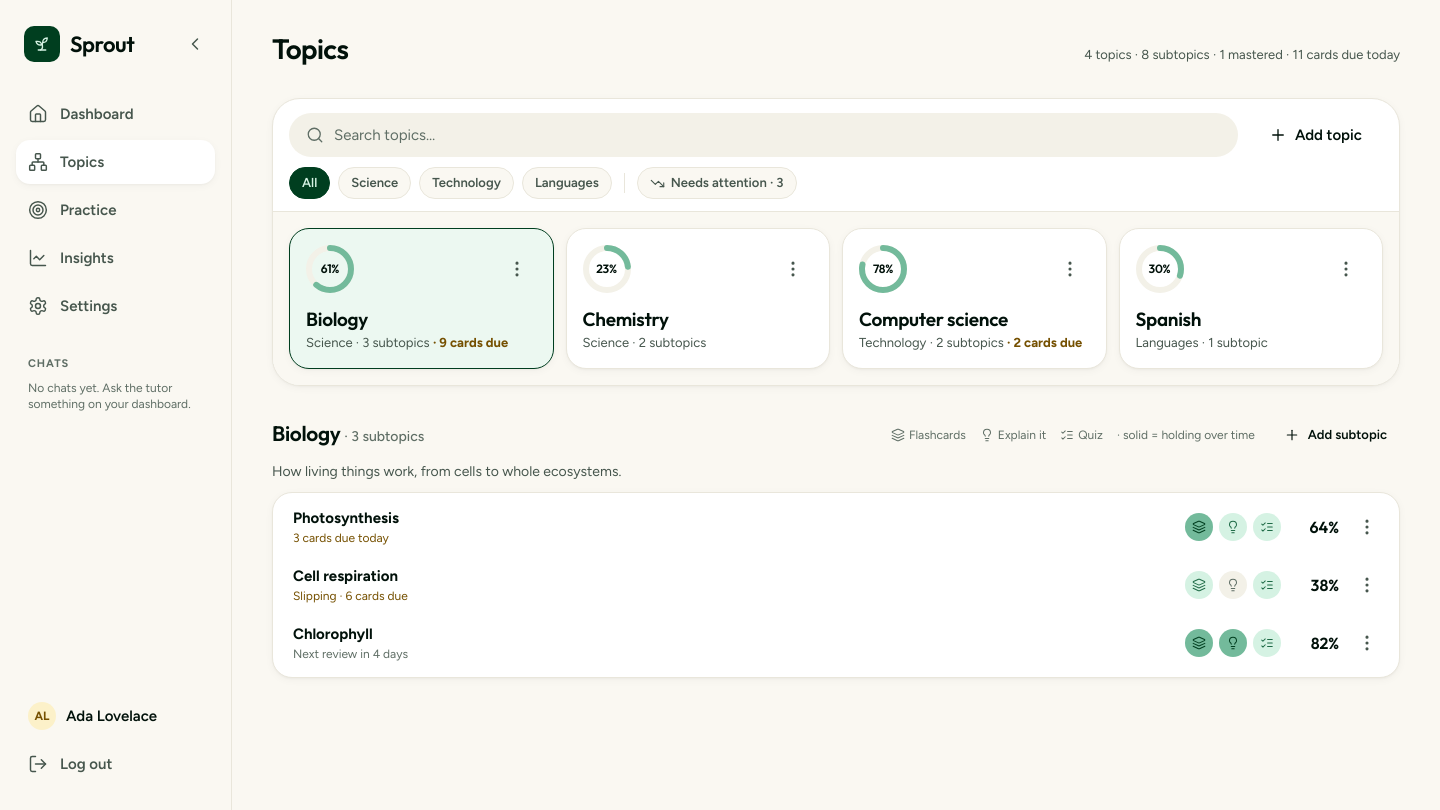
Test: TopicsView › shows the subtopics of the topic you pick
The width and height of the screenshot is (1440, 810).
Click the button with test id "topic-card" that starts with "Chemistry" at [606, 269], box [566,229,829,368]
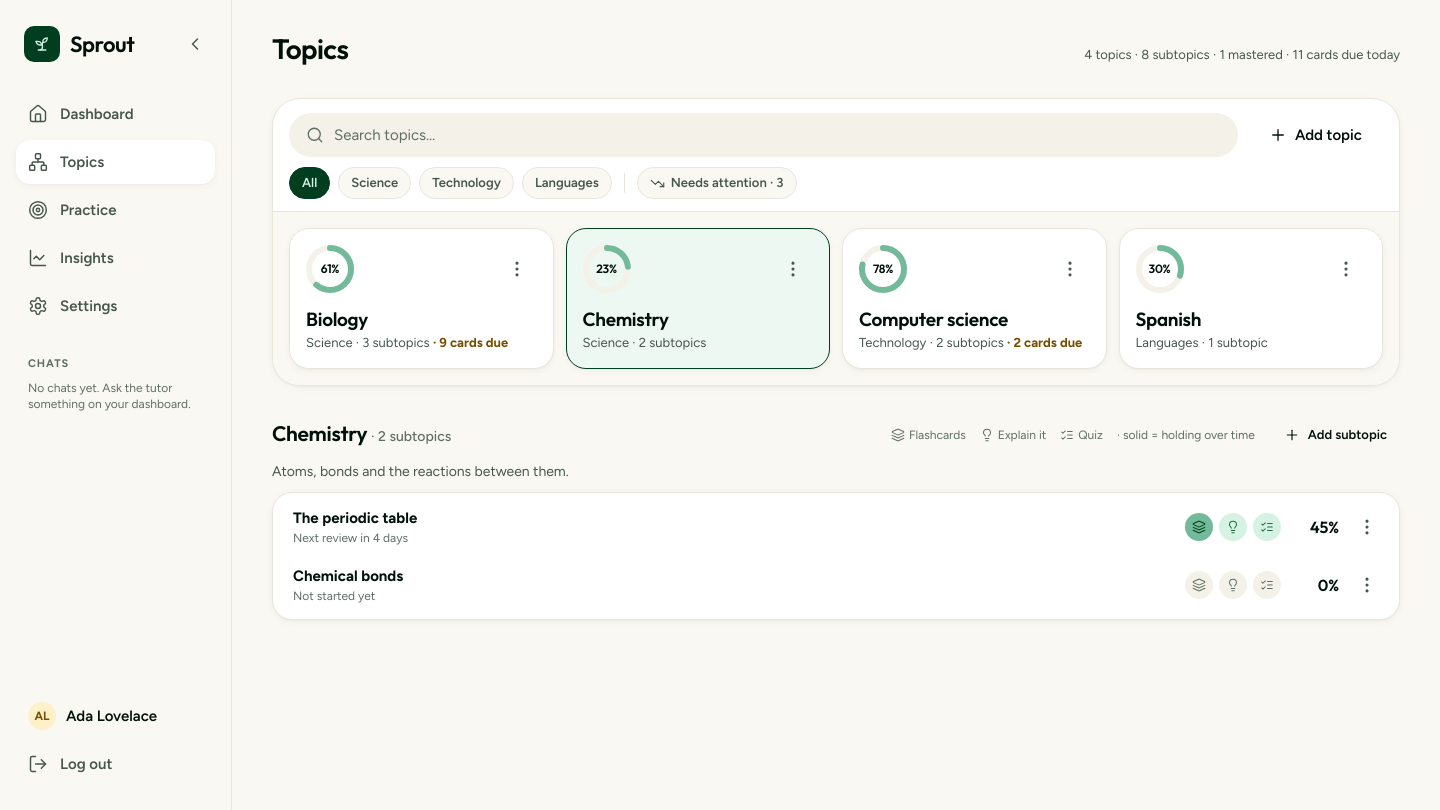
Expected: the heading with test id "subtopics-heading" shows "Chemistry", [272,420,371,446]
